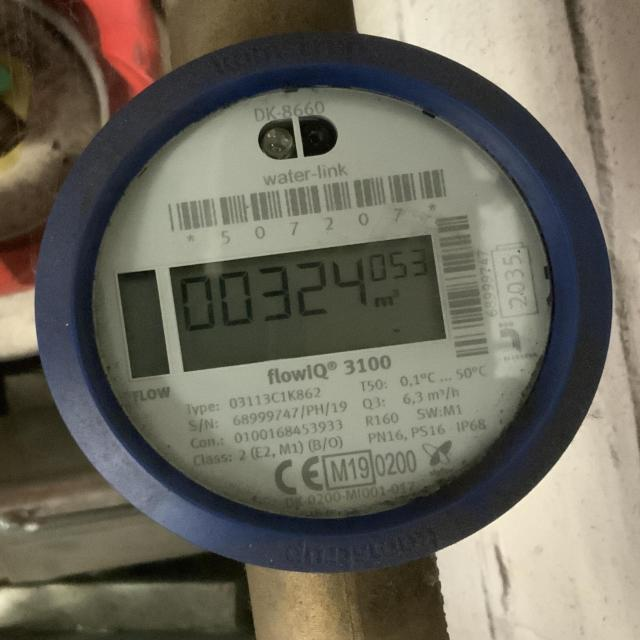gaz_meter: (48, 67, 600, 518)
indication: (166, 231, 446, 374)
